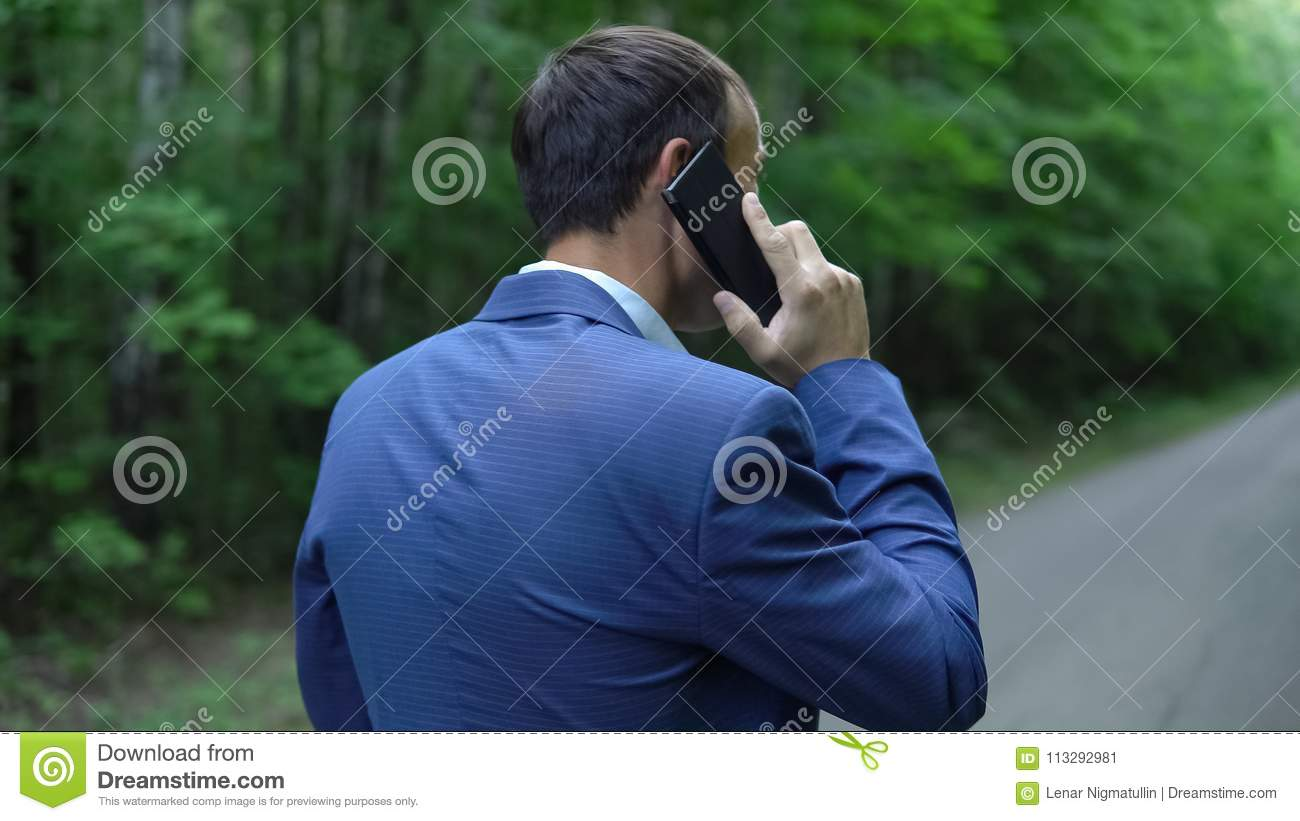phone: (663, 139, 795, 318)
